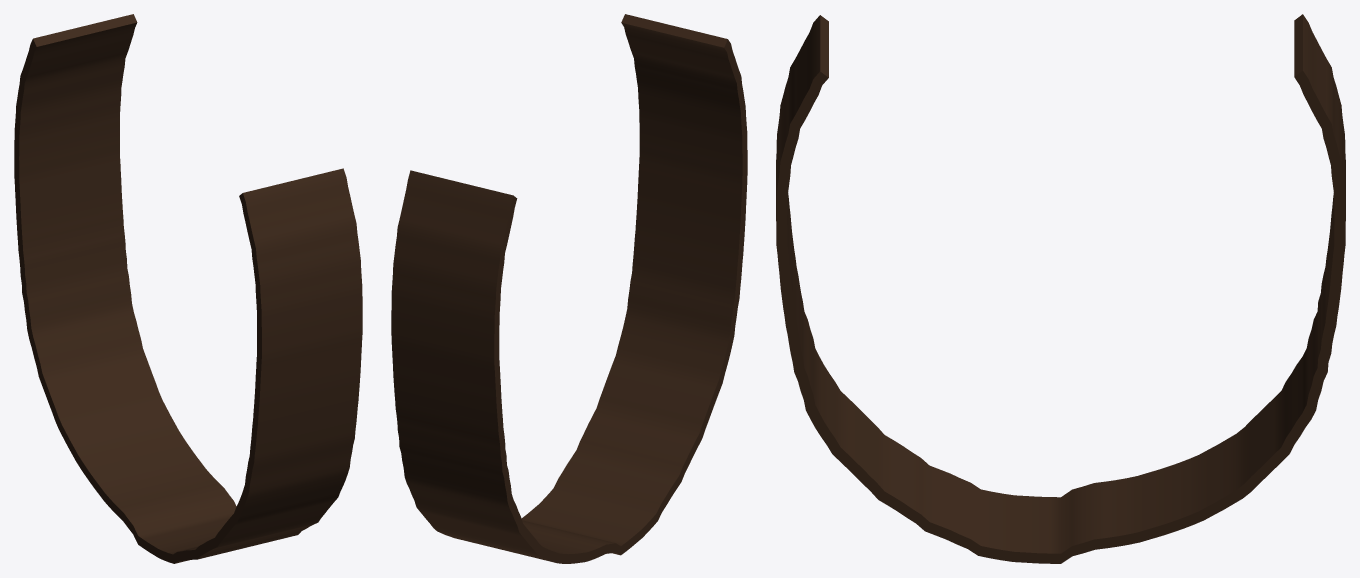
Rendered from Cincha_Americano.glb.
The picture shows the model from 3 angles, left to right: view 1: azimuth 30°, elevation 25°; view 2: azimuth 150°, elevation 25°; view 3: azimuth 270°, elevation 25°; orthographic projection. The views are drawn at different scales.
Parts seen in each view (by area): view 1: Cincha_Americano; view 2: Cincha_Americano; view 3: Cincha_Americano.
Boxes of the visible parts, x1,y1,x2,y2 form: Cincha_Americano: (14, 14, 362, 563); Cincha_Americano: (391, 14, 747, 563); Cincha_Americano: (776, 14, 1345, 563).
Size of the model in its own units: 0.052 by 0.2117 by 0.2216.
